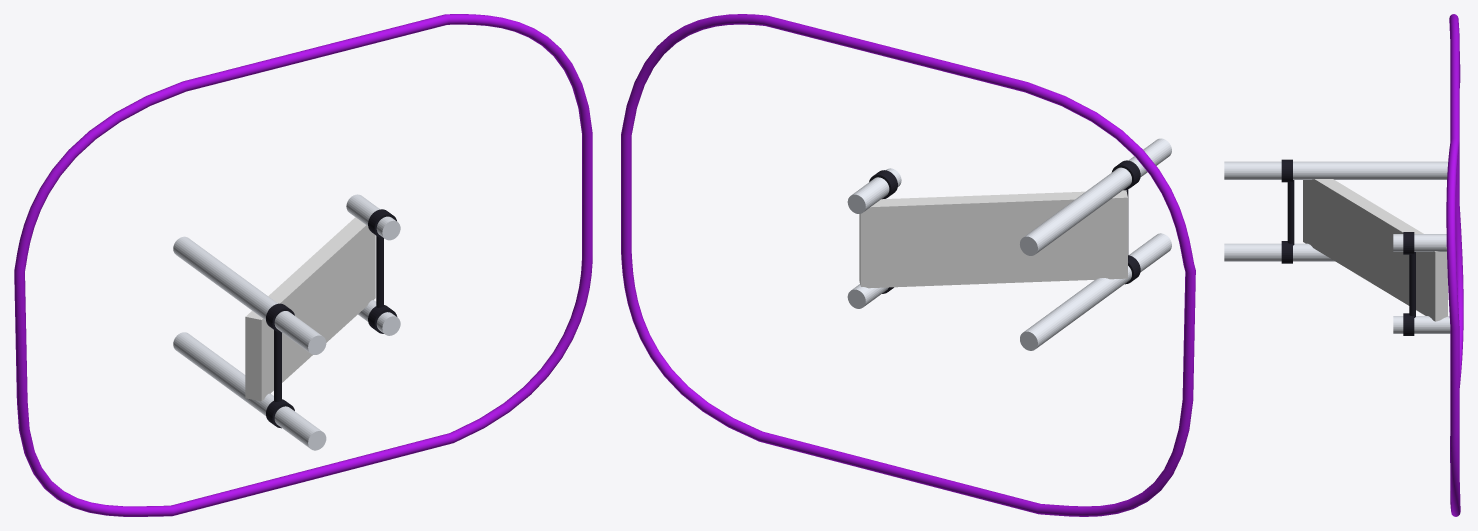
Rendered from kpro-023.glb.
The picture shows the model from 3 angles, left to right: view 1: azimuth 30°, elevation 25°; view 2: azimuth 150°, elevation 25°; view 3: azimuth 270°, elevation 25°; orthographic projection. The views are drawn at different scales.
Visible parts, largest first — view 1: _outline.014, Cube.055, circle.038, circle.037, circle.036; view 2: Cube.055, _outline.014, circle.038, circle.037, circle.036; view 3: Cube.055, _outline.014, circle.038, circle.037, circle.035, circle.036, Cylinder.141, Cylinder.138, Cylinder.142.
Part boxes in pixels (<box>): _outline.014: <box>14,14,592,516</box>; Cube.055: <box>245,217,375,401</box>; circle.038: <box>173,236,326,354</box>; circle.037: <box>173,332,326,450</box>; circle.036: <box>346,194,400,240</box>; Cube.055: <box>859,190,1127,288</box>; _outline.014: <box>621,14,1195,516</box>; circle.038: <box>1020,138,1171,255</box>; circle.037: <box>1020,233,1171,350</box>; circle.036: <box>847,168,901,213</box>; Cube.055: <box>1303,179,1447,321</box>; _outline.014: <box>1446,14,1463,516</box>; circle.038: <box>1224,161,1447,179</box>; circle.037: <box>1224,243,1334,261</box>; circle.035: <box>1393,316,1450,333</box>; circle.036: <box>1393,234,1446,251</box>; Cylinder.141: <box>1287,180,1294,245</box>; Cylinder.138: <box>1409,252,1415,317</box>; Cylinder.142: <box>1281,159,1292,182</box>.
Size of the model in its own units: 3.71 by 2.66 by 1.56.
